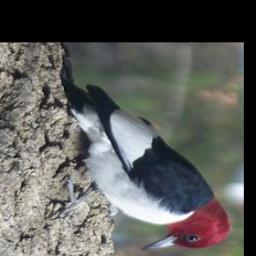Woodpecker: (42, 79, 233, 253)
